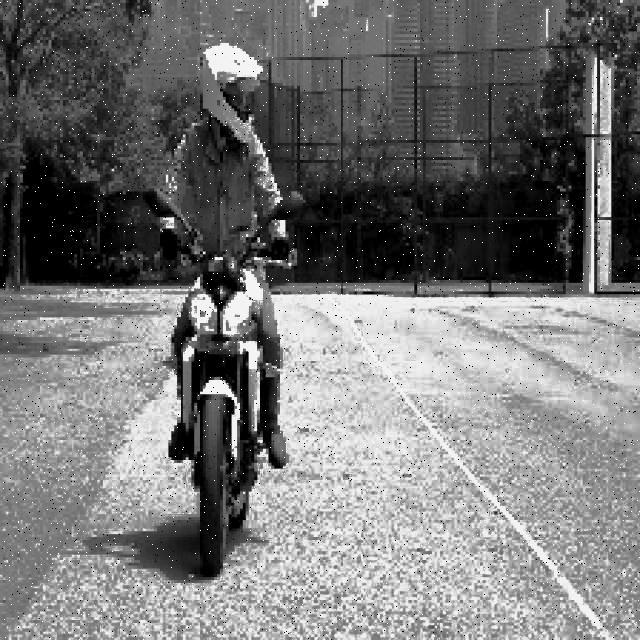Bike: (173, 225, 273, 551)
